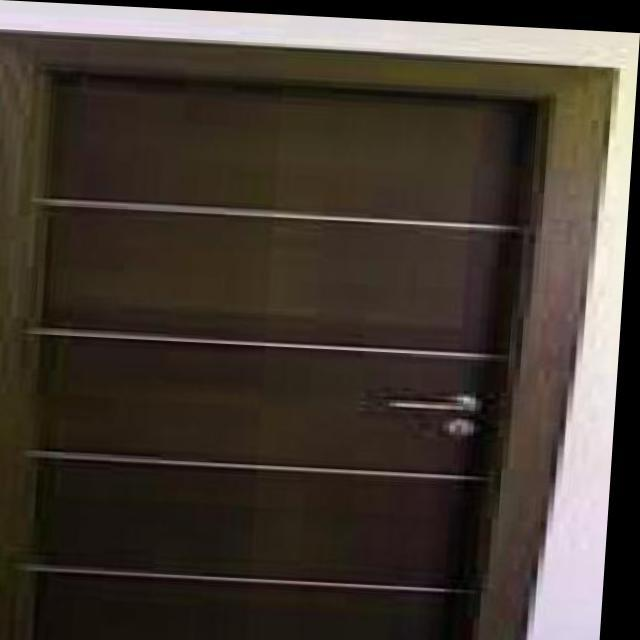door_handle: (391, 387, 492, 419)
